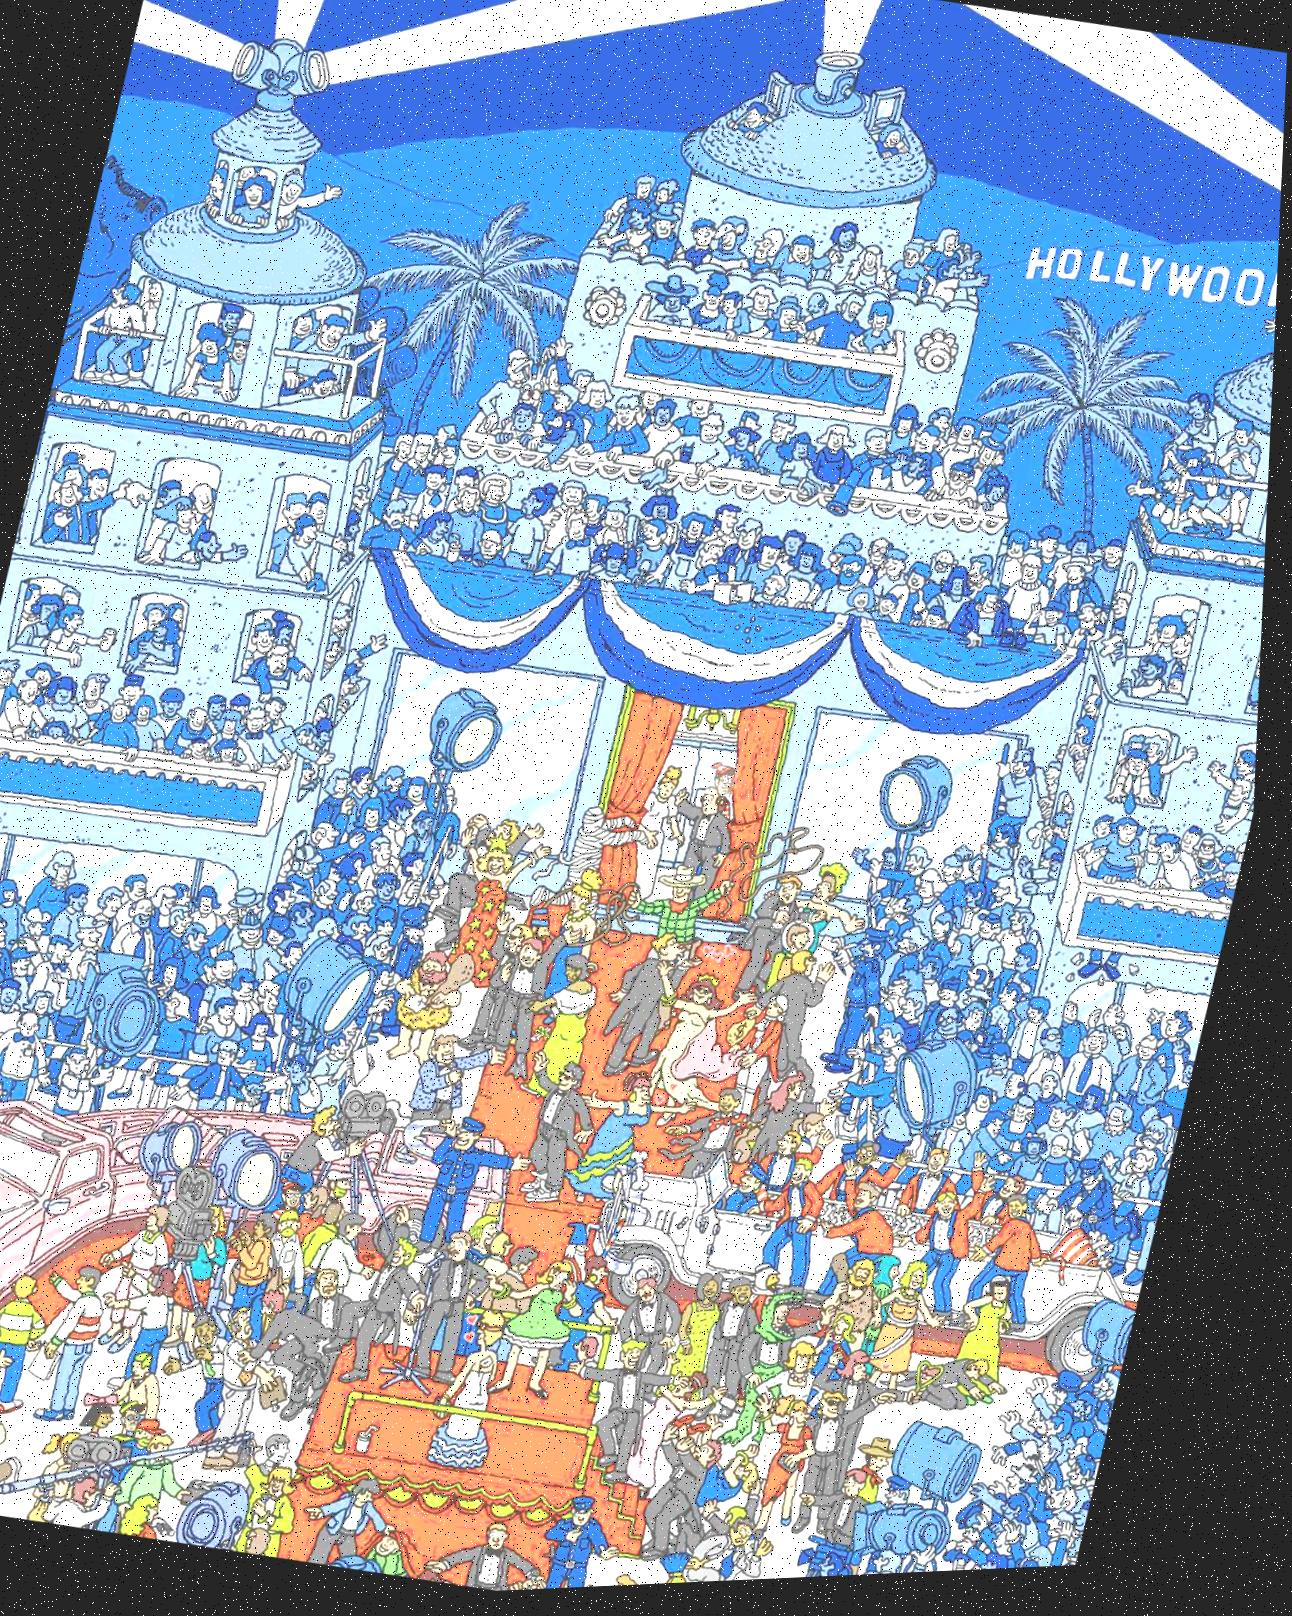waldo: (712, 767, 749, 807)
